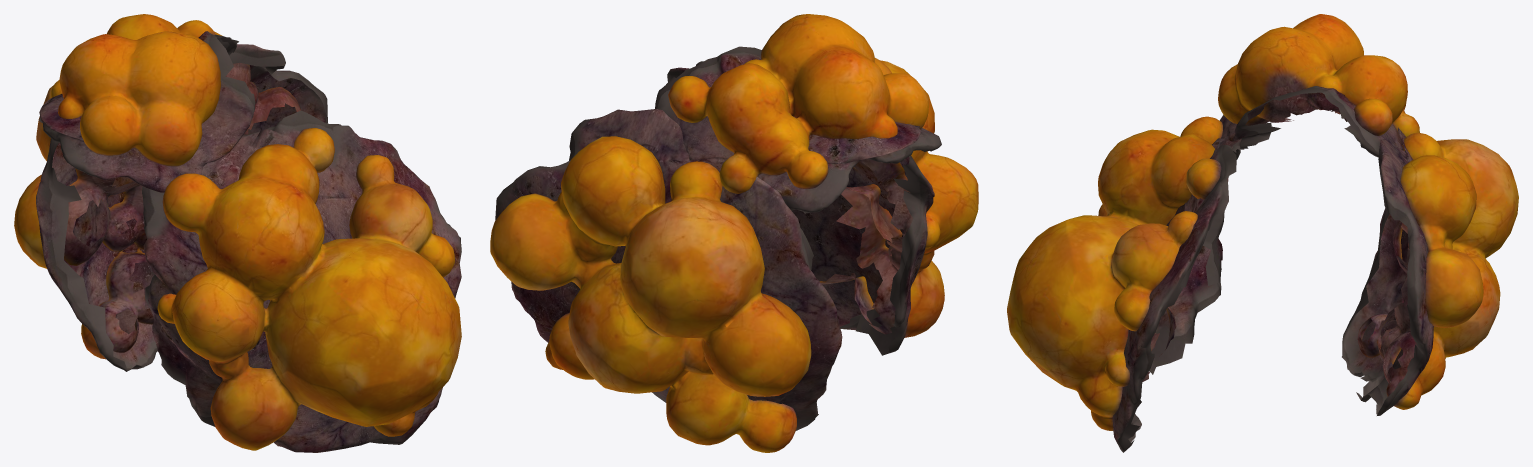
File: zombie_kit_bloater.glb
3 views of the same model, side by side, from view 1: azimuth 30°, elevation 25°; view 2: azimuth 150°, elevation 25°; view 3: azimuth 270°, elevation 25° (orthographic). The views are drawn at different scales.
Parts seen in each view (by area): view 1: Spine2__SacCluster, RightShoulder__SacCluster; view 2: Spine2__SacCluster, RightShoulder__SacCluster; view 3: Spine2__SacCluster, RightShoulder__SacCluster.
Boxes of the visible parts, bbox=[...] form: Spine2__SacCluster: bbox=[14, 31, 461, 452]; RightShoulder__SacCluster: bbox=[39, 14, 255, 192]; Spine2__SacCluster: bbox=[490, 60, 978, 452]; RightShoulder__SacCluster: bbox=[655, 14, 941, 213]; Spine2__SacCluster: bbox=[1007, 116, 1518, 452]; RightShoulder__SacCluster: bbox=[1218, 14, 1419, 157].
Bounding box in the file's own units: 0.4366 × 0.4692 × 0.6148.
2 materials, 2 textured.
